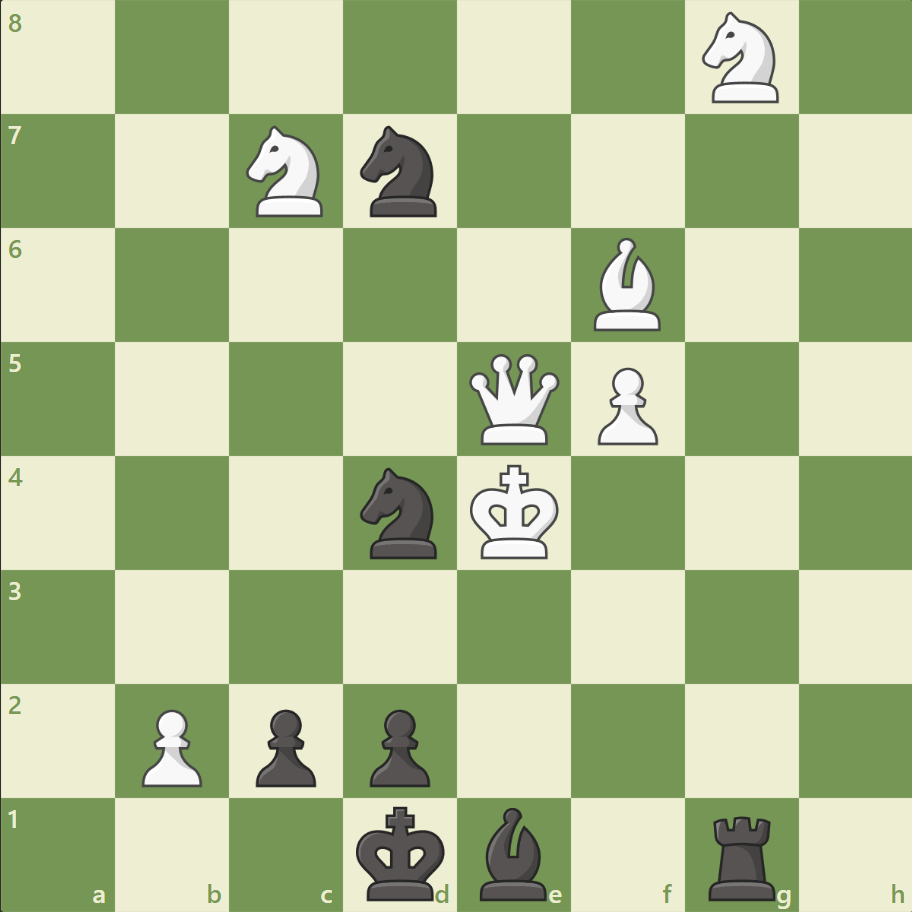B: (585, 233, 669, 336)
K: (465, 458, 565, 566)
N: (692, 7, 789, 110), (238, 121, 335, 223)
P: (133, 700, 208, 791), (588, 359, 662, 450)
Q: (464, 349, 563, 449)
b: (471, 801, 555, 904)
k: (351, 798, 451, 906)
n: (351, 461, 449, 564), (351, 121, 449, 223)
p: (247, 700, 322, 791), (361, 700, 435, 791)
r: (700, 806, 783, 904)
